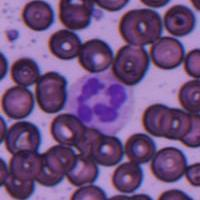N: (68, 71, 134, 133)
